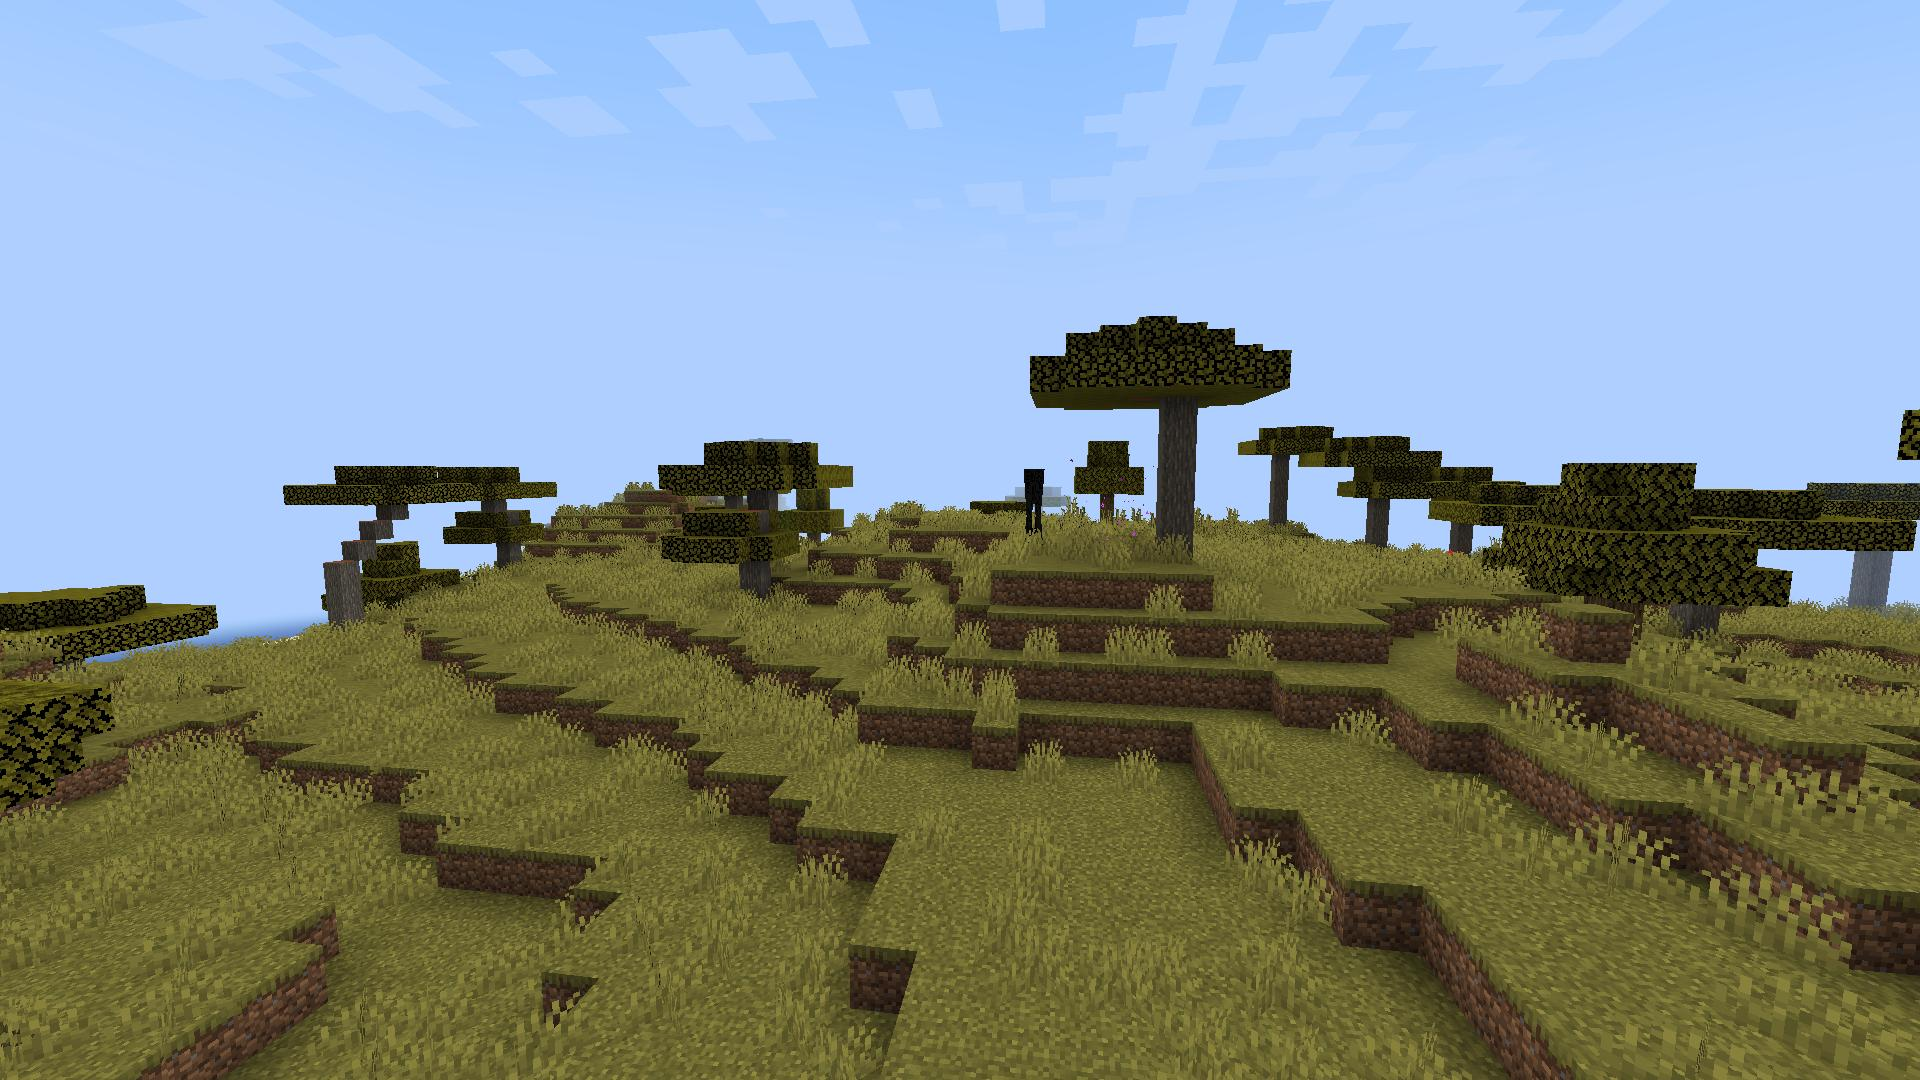enderman: (998, 447, 1067, 559)
